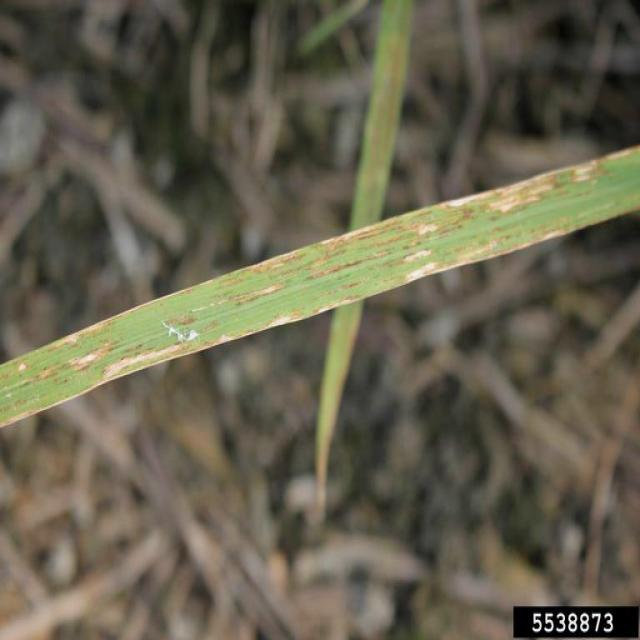Bacterial_Leaf_Blight: (95, 152, 602, 358)
